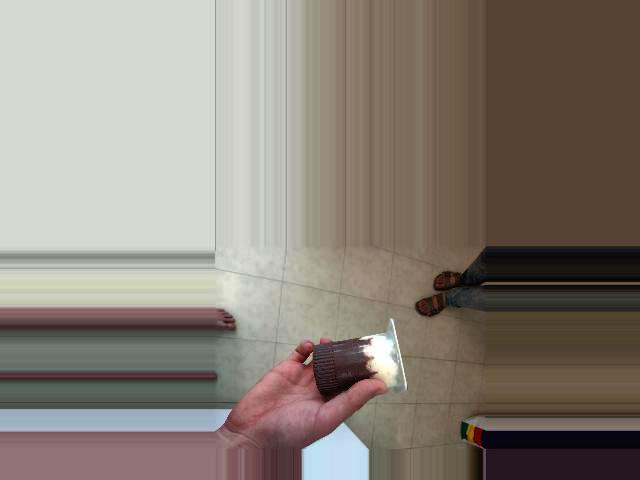milky: (286, 333, 404, 396)
